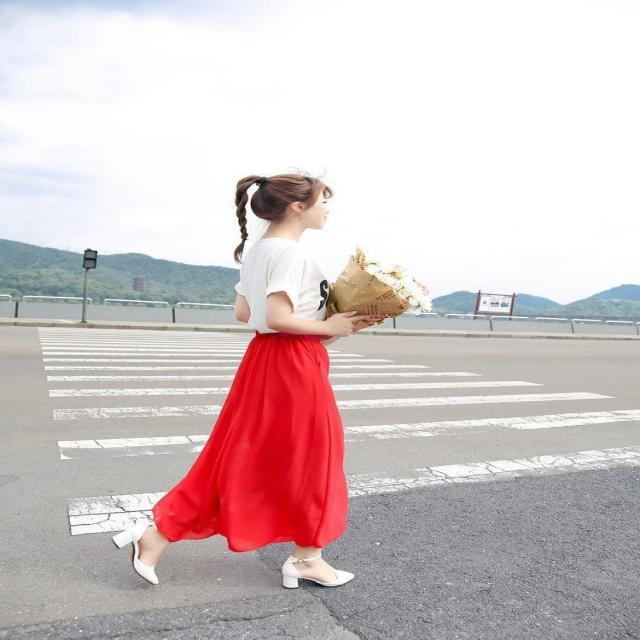short sleeve top: (242, 239, 329, 333)
skirt: (153, 332, 341, 547)
